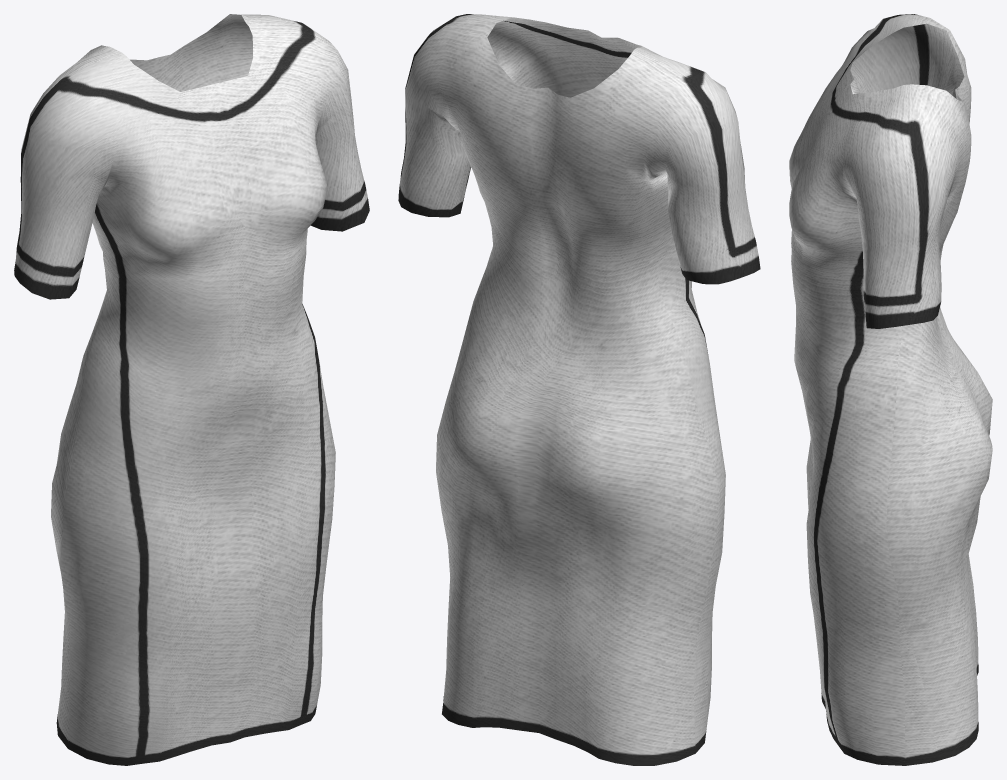
Rendered from top_tunic.gltf.
3 views of the same model, side by side, from view 1: azimuth 30°, elevation 25°; view 2: azimuth 150°, elevation 25°; view 3: azimuth 270°, elevation 25° (orthographic). The views are drawn at different scales.
Parts seen in each view (by area): view 1: top_tunic; view 2: top_tunic; view 3: top_tunic.
Part boxes in pixels (x1,y1,x2,y2): top_tunic: [14, 14, 369, 765]; top_tunic: [398, 14, 760, 765]; top_tunic: [789, 14, 992, 765].
Size of the model in its own units: 0.482 by 0.9137 by 0.2567.
1 material, 1 textured.
